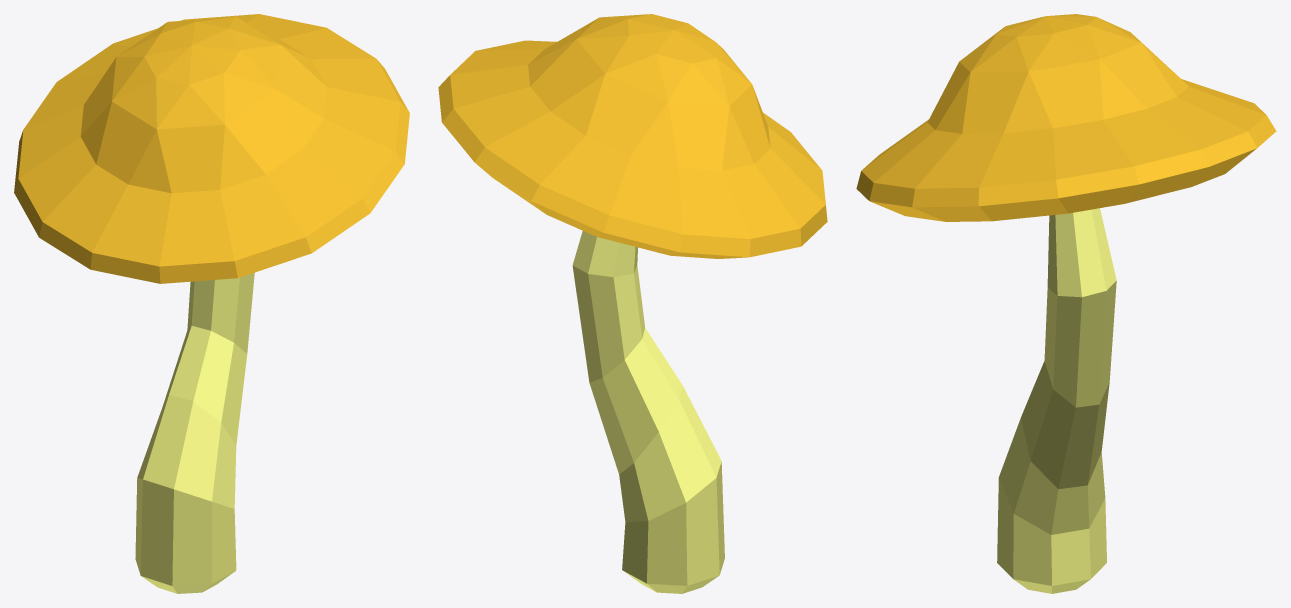
The model's file is Mushroom_Yellow.fbx.
3 renders of one model, left to right at view 1: azimuth 30°, elevation 25°; view 2: azimuth 150°, elevation 25°; view 3: azimuth 270°, elevation 25°, orthographic. The views are drawn at different scales.
Visible parts, largest first — view 1: Mushroom_Yellow; view 2: Mushroom_Yellow; view 3: Mushroom_Yellow.
Part boxes in pixels (left/top/right/bottom): Mushroom_Yellow: left=14, top=14, right=409, bottom=593; Mushroom_Yellow: left=438, top=14, right=827, bottom=593; Mushroom_Yellow: left=856, top=14, right=1276, bottom=593.
Bounding box in the file's own units: 0.2003 × 0.306 × 0.2049.
